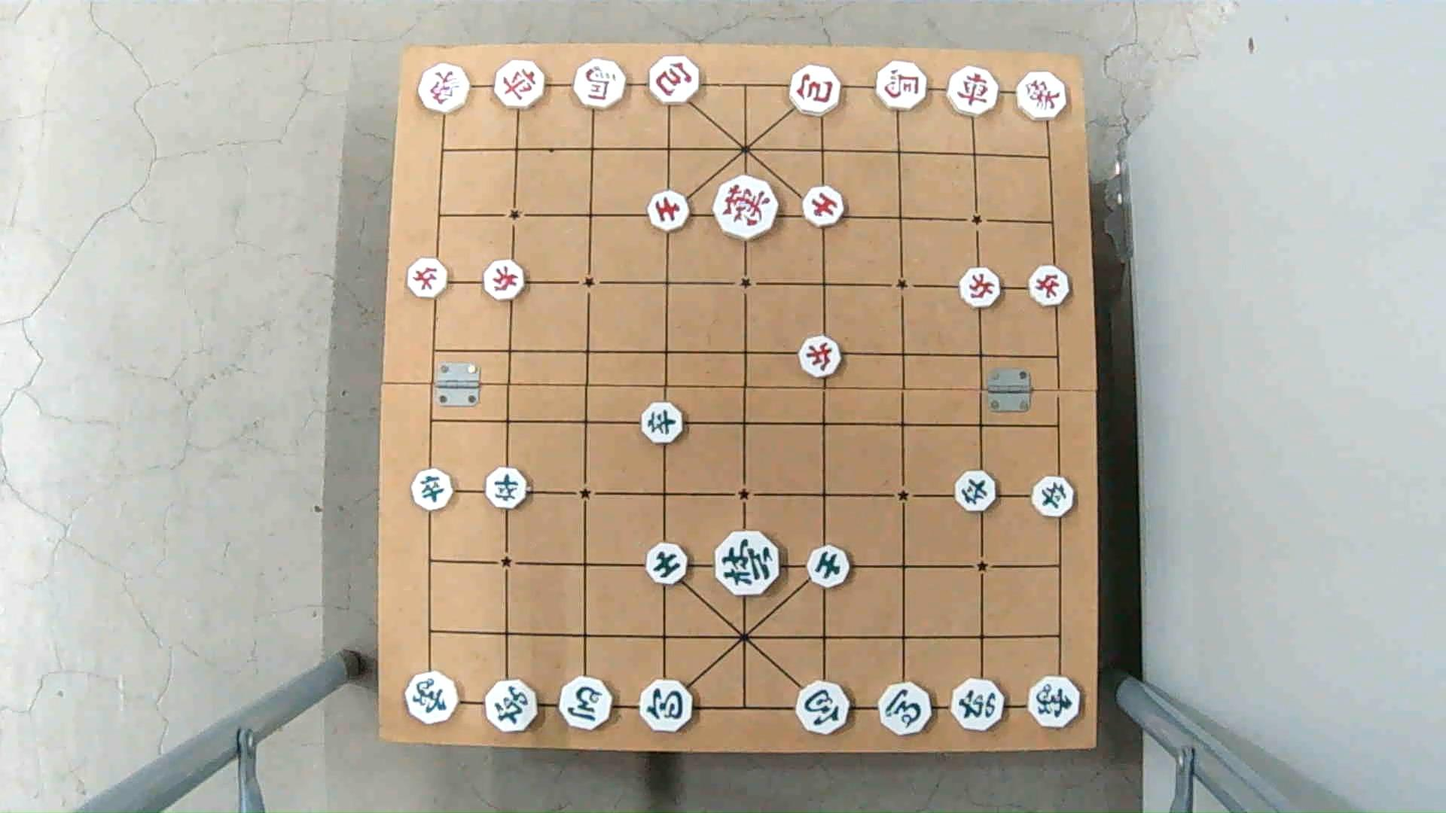cha_green: (948, 681, 1007, 729), (483, 683, 539, 732)
cha_red: (944, 69, 1003, 115), (490, 62, 548, 108)
jol_green: (639, 404, 687, 442), (483, 470, 532, 507), (951, 473, 998, 511), (408, 472, 456, 509), (1030, 480, 1078, 516)
jol_red: (796, 340, 846, 376), (956, 269, 1004, 306), (480, 263, 528, 299), (1027, 266, 1070, 306), (403, 261, 450, 297)
ma_green: (875, 682, 935, 734), (560, 681, 618, 730)
ma_red: (873, 63, 931, 108), (574, 59, 624, 107)
po_green: (641, 684, 700, 732), (794, 684, 852, 732)
po_red: (788, 66, 844, 111), (645, 57, 701, 102)
sa_green: (803, 544, 852, 587), (644, 544, 692, 583)
sa_red: (800, 184, 847, 227), (645, 190, 690, 233)
sang_green: (1025, 678, 1084, 726), (404, 675, 461, 723)
sang_red: (415, 65, 473, 113), (1014, 73, 1072, 117)
wang_green: (712, 535, 780, 591)
wang_red: (711, 178, 778, 239)
